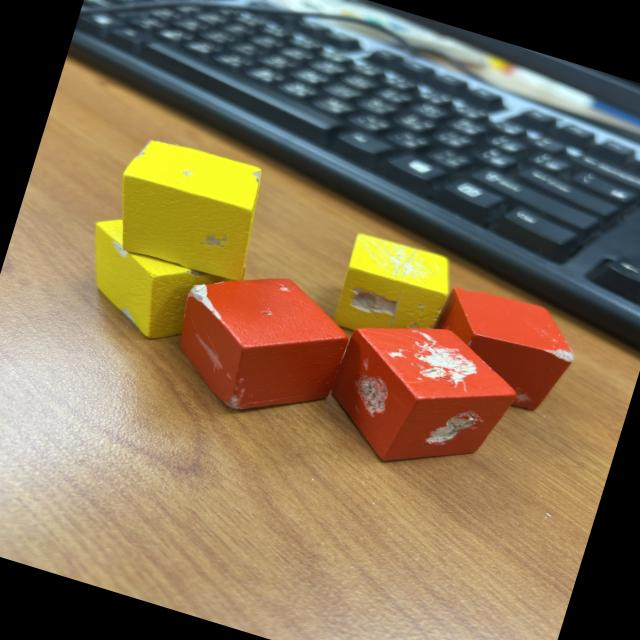broken: (313, 300, 528, 492), (159, 252, 360, 436), (102, 130, 274, 286), (67, 211, 239, 357), (417, 275, 586, 419), (329, 230, 459, 355)
